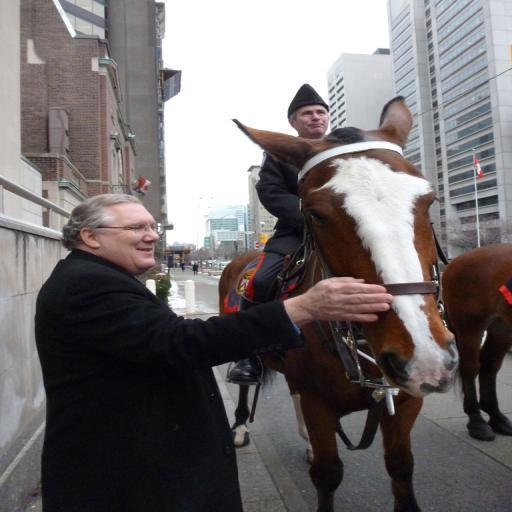horse: (214, 94, 464, 512), (440, 242, 512, 442)
